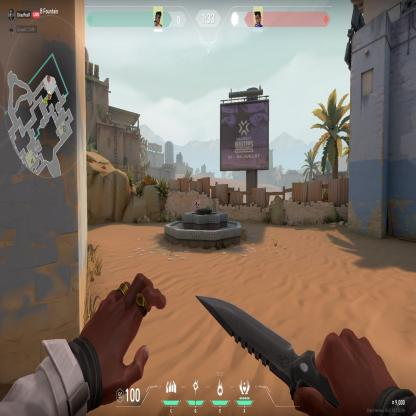enemy: (194, 195, 201, 210)
